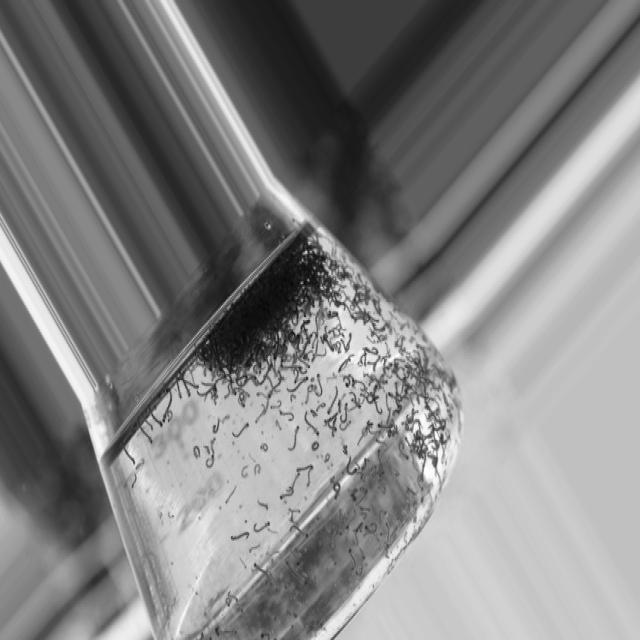larvas: (302, 412, 321, 438), (286, 563, 307, 585), (287, 376, 309, 395), (327, 387, 340, 415), (259, 362, 274, 386), (267, 377, 282, 400), (162, 392, 173, 423), (300, 332, 313, 358), (256, 391, 270, 413), (232, 422, 250, 438), (280, 367, 298, 383), (288, 426, 299, 452), (337, 357, 351, 374), (141, 427, 154, 445), (415, 342, 428, 360), (387, 391, 400, 408), (338, 418, 352, 433), (290, 526, 309, 537), (346, 456, 357, 475), (151, 413, 164, 429), (348, 546, 356, 572), (123, 470, 133, 490), (182, 378, 192, 398), (226, 486, 237, 504), (405, 355, 420, 368), (388, 310, 401, 325), (124, 449, 136, 465), (378, 448, 385, 475), (324, 411, 337, 425), (399, 439, 408, 459), (346, 510, 356, 528), (343, 352, 355, 367), (430, 398, 441, 414), (357, 429, 368, 445), (253, 522, 270, 532), (390, 460, 400, 477), (358, 489, 368, 506), (280, 488, 294, 500), (357, 555, 365, 576), (392, 402, 403, 417), (256, 404, 265, 422), (316, 373, 323, 396), (290, 550, 300, 566), (325, 338, 335, 354), (401, 374, 409, 394), (408, 369, 421, 381), (280, 411, 294, 422), (432, 363, 442, 378), (375, 400, 384, 416), (333, 326, 345, 338), (338, 317, 347, 333), (378, 308, 387, 324), (378, 511, 388, 525), (366, 313, 380, 323), (421, 459, 427, 482), (320, 326, 328, 343), (346, 305, 355, 320), (231, 533, 250, 540), (328, 329, 340, 340), (373, 322, 386, 332), (292, 472, 300, 488), (416, 475, 424, 491), (426, 423, 434, 439), (342, 402, 348, 423), (257, 500, 269, 510), (254, 564, 266, 574), (365, 523, 377, 533), (206, 455, 215, 468), (176, 380, 182, 399), (213, 417, 220, 433), (298, 464, 314, 471), (376, 439, 390, 447), (363, 372, 377, 380), (249, 544, 260, 554), (337, 301, 348, 311), (136, 458, 145, 470), (227, 592, 239, 601), (238, 392, 250, 401), (366, 336, 378, 345), (333, 484, 340, 499), (332, 416, 337, 437), (307, 349, 315, 362), (328, 337, 336, 350), (210, 438, 216, 455), (435, 472, 441, 489), (405, 351, 415, 361), (300, 320, 310, 330), (188, 381, 199, 390), (193, 445, 200, 459), (351, 487, 358, 501), (442, 392, 449, 406), (374, 299, 381, 313), (355, 522, 363, 534), (354, 380, 366, 388), (343, 290, 351, 302), (327, 295, 335, 307), (236, 377, 248, 385), (303, 301, 309, 317), (431, 454, 438, 467), (131, 473, 137, 488), (221, 414, 230, 424), (219, 630, 237, 635), (300, 359, 310, 368), (327, 423, 337, 432), (363, 348, 378, 354), (204, 390, 212, 401), (239, 558, 247, 569), (386, 522, 390, 544), (362, 458, 370, 469), (271, 400, 282, 408), (224, 385, 230, 399), (190, 371, 197, 383), (414, 433, 426, 440), (373, 384, 379, 398), (374, 358, 381, 370), (292, 314, 299, 326), (261, 631, 270, 640), (354, 314, 363, 323), (146, 420, 154, 430), (311, 441, 319, 451), (403, 530, 408, 546), (407, 488, 417, 496), (366, 392, 374, 402), (315, 313, 319, 333), (394, 372, 404, 380), (430, 381, 440, 389), (360, 354, 366, 367), (360, 506, 371, 513), (385, 321, 392, 332), (309, 304, 316, 315), (242, 465, 248, 477), (260, 443, 268, 452), (403, 423, 412, 431), (406, 413, 414, 422), (447, 408, 453, 420), (327, 312, 339, 318), (398, 346, 406, 355), (414, 352, 422, 361), (253, 365, 261, 374), (420, 381, 426, 393), (203, 445, 210, 455), (288, 508, 293, 522), (358, 513, 368, 520), (344, 376, 351, 386), (349, 392, 356, 402), (432, 440, 439, 450), (382, 359, 387, 373), (354, 292, 361, 302), (254, 464, 260, 475), (275, 420, 281, 431), (268, 550, 279, 556), (348, 375, 354, 386), (355, 397, 361, 408), (268, 376, 274, 387), (405, 438, 411, 449), (394, 364, 405, 370), (394, 357, 405, 363), (341, 339, 346, 352), (386, 342, 391, 355), (309, 409, 317, 417), (317, 402, 325, 410), (354, 306, 362, 314), (421, 445, 429, 453), (250, 376, 258, 384), (196, 631, 203, 640), (324, 453, 331, 462), (234, 384, 243, 391), (371, 330, 380, 337), (378, 335, 387, 342), (306, 471, 310, 486), (342, 445, 348, 455), (328, 373, 338, 379), (315, 352, 327, 357), (440, 434, 446, 444), (363, 314, 369, 324), (359, 292, 365, 302), (289, 332, 295, 342), (278, 370, 284, 380), (392, 426, 398, 436), (238, 399, 245, 407), (308, 385, 316, 392), (312, 335, 316, 349), (385, 370, 392, 378), (400, 322, 407, 330), (411, 446, 418, 454), (268, 528, 279, 533), (358, 274, 363, 285), (249, 453, 255, 462), (290, 394, 296, 403), (385, 392, 388, 410), (393, 327, 399, 336), (354, 282, 360, 291), (400, 337, 406, 346), (417, 394, 423, 403), (304, 391, 308, 404), (348, 334, 352, 347), (387, 408, 391, 421), (370, 430, 380, 435), (231, 384, 236, 394), (434, 426, 444, 431), (360, 392, 365, 402), (382, 354, 392, 359), (410, 396, 415, 406), (399, 396, 409, 401), (273, 368, 278, 378), (394, 342, 401, 349), (168, 410, 172, 422), (330, 474, 336, 482), (379, 424, 391, 428), (411, 408, 419, 414), (286, 354, 292, 362), (212, 388, 217, 397), (338, 399, 341, 414), (335, 340, 340, 349), (203, 367, 207, 378), (378, 380, 389, 384), (416, 420, 422, 427), (366, 421, 373, 427), (387, 363, 394, 369), (405, 386, 411, 393), (418, 451, 424, 458), (214, 377, 220, 384), (214, 395, 218, 405), (215, 626, 219, 636), (300, 369, 308, 374), (415, 429, 423, 434), (379, 374, 384, 382), (300, 334, 304, 344), (430, 388, 440, 392), (280, 356, 284, 366), (316, 334, 318, 353), (202, 383, 214, 386), (197, 392, 206, 396), (168, 512, 174, 518), (226, 597, 230, 606), (368, 362, 377, 366), (304, 327, 308, 336), (424, 392, 430, 398), (368, 380, 373, 387), (396, 381, 398, 398), (428, 450, 432, 458), (388, 430, 392, 438), (377, 533, 383, 538), (336, 324, 341, 330), (291, 510, 300, 513)
